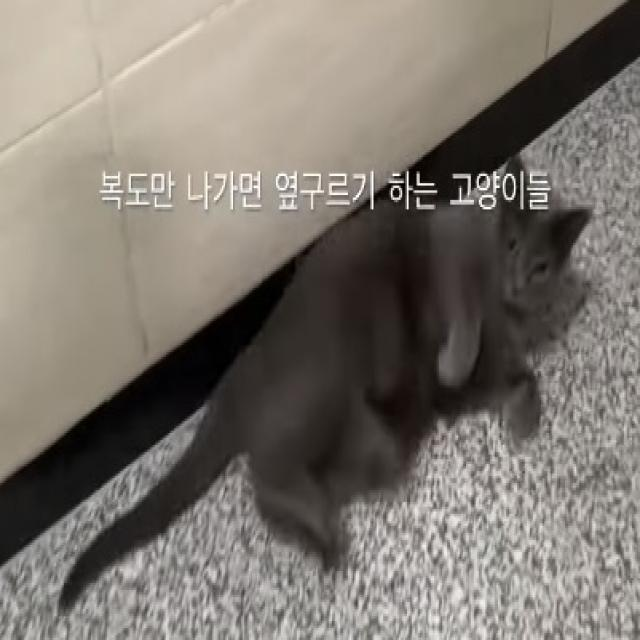cat: (55, 150, 593, 623)
